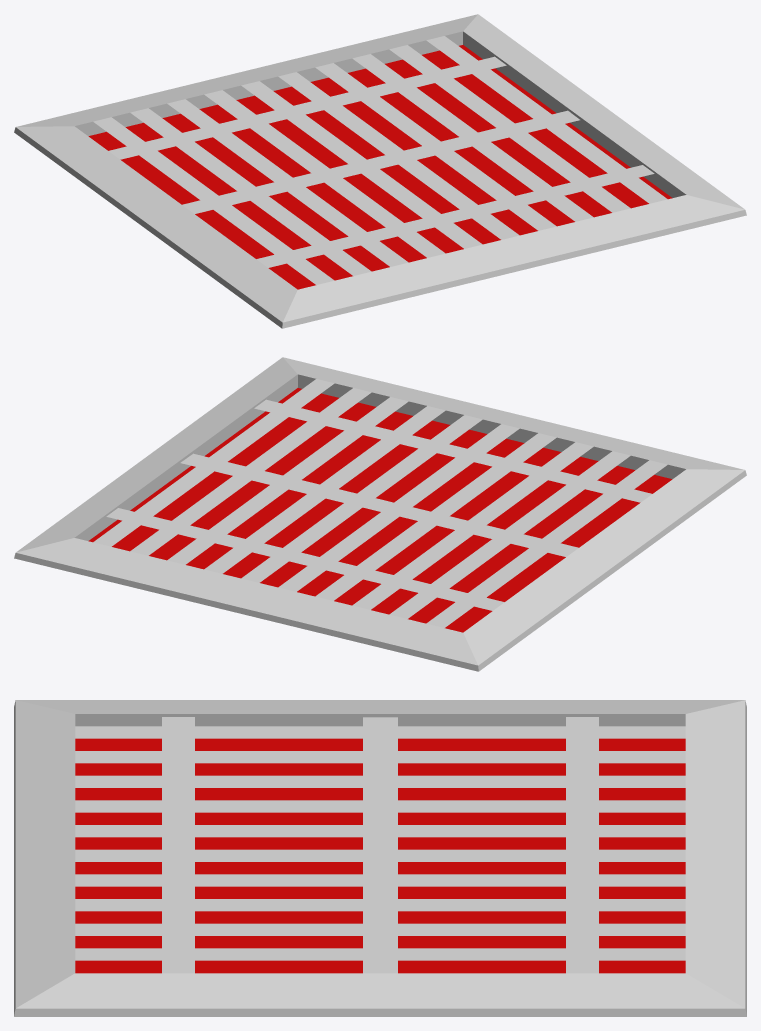
The model's file is VR_FloorGrate.fbx.
3 views of the same model, one above another, from view 1: azimuth 30°, elevation 25°; view 2: azimuth 150°, elevation 25°; view 3: azimuth 270°, elevation 25° (orthographic). The views are drawn at different scales.
Parts seen in each view (by area): view 1: FloorGrate.002; view 2: FloorGrate.002; view 3: FloorGrate.002.
Boxes of the visible parts, bbox=[...] form: FloorGrate.002: bbox=[14, 14, 746, 328]; FloorGrate.002: bbox=[14, 357, 746, 671]; FloorGrate.002: bbox=[14, 700, 746, 1016].
Size of the model in its own units: 200 by 200 by 5.53.
